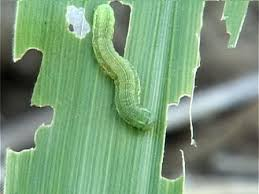Armyworm: (86, 6, 162, 137)
